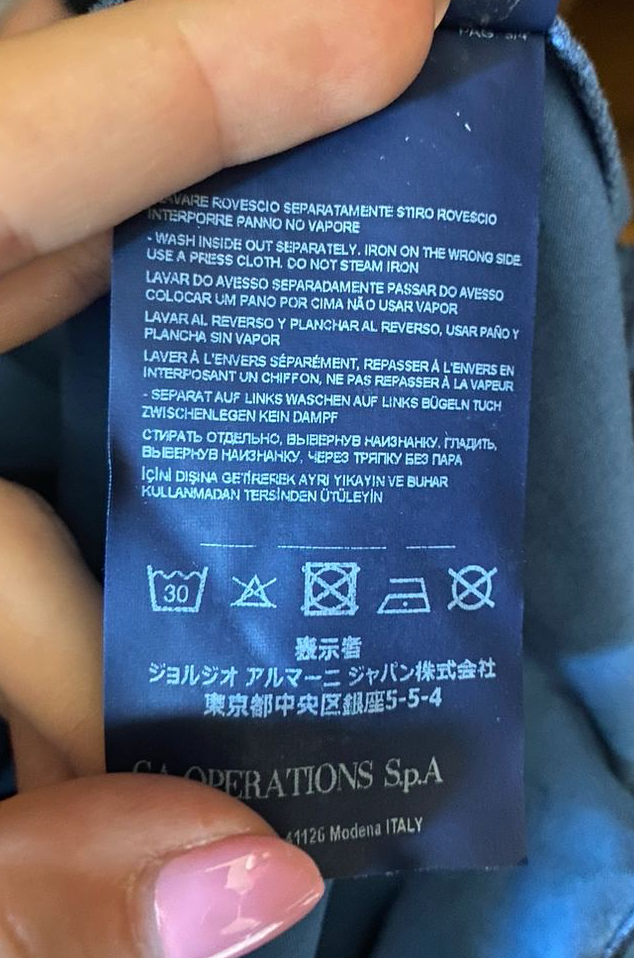do_not_bleach: (225, 572, 283, 613)
do_not_dry_clean: (443, 561, 504, 616)
do_not_tumble_drying: (296, 555, 366, 622)
ironing_at_low_temp: (371, 571, 435, 621)
wash_at_or_below_30: (140, 561, 215, 619)
